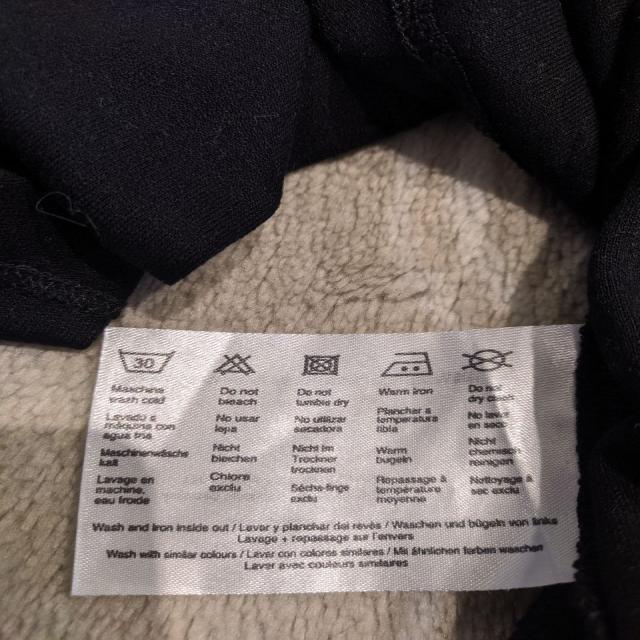30C: (118, 344, 181, 377)
DN_bleach: (211, 350, 260, 378)
DN_dry_clean: (461, 344, 515, 375)
DN_tumble_dry: (300, 349, 346, 379)
iron_medium: (381, 346, 435, 378)
